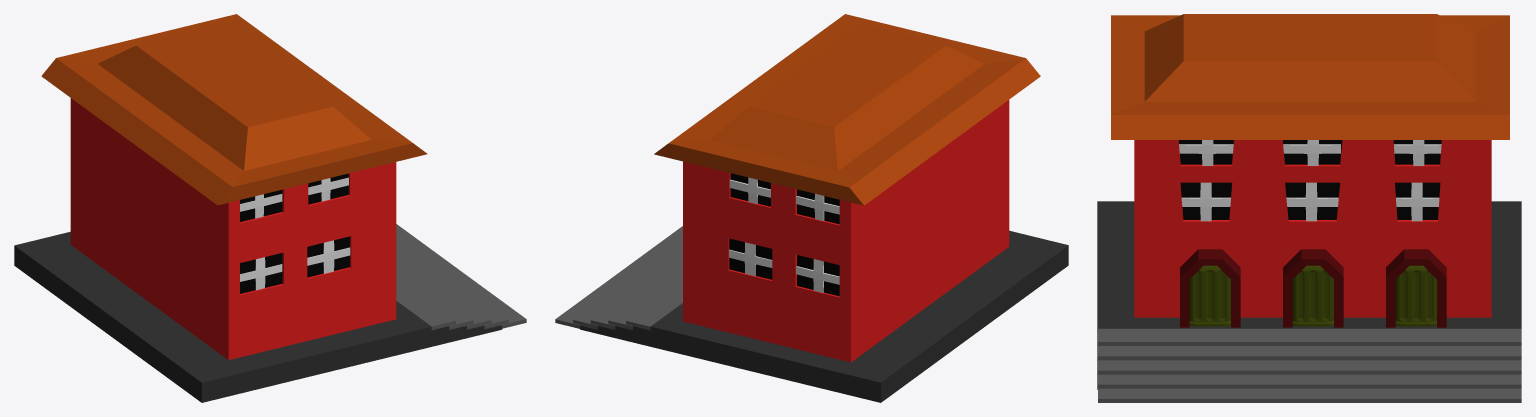
File: Casas.fbx
The picture shows the model from 3 angles, left to right: view 1: azimuth 30°, elevation 25°; view 2: azimuth 150°, elevation 25°; view 3: azimuth 270°, elevation 25°; orthographic projection. The views are drawn at different scales.
Visible parts, largest first — view 1: Cube, Cube.003, Cube.002, Cube.004, Cube.005, Cube.016, Cube.013, Cube.014, Cube.015; view 2: Cube, Cube.003, Cube.002, Cube.004, Cube.005, Cube.020, Cube.017, Cube.019, Cube.018; view 3: Cube.003, Cube, Cube.004, Cube.002, Cube.006, Cube.001, Cube.005, Cube.010, Cube.007, Cube.011, Cube.009, Cube.008 (+1 smaller).
Boxes of the visible parts, x1=… form: Cube: x1=70, y1=98, x2=396, y2=360; Cube.003: x1=41, y1=14, x2=427, y2=205; Cube.002: x1=14, y1=231, x2=502, y2=402; Cube.004: x1=396, y1=224, x2=526, y2=329; Cube.005: x1=240, y1=173, x2=349, y2=293; Cube.016: x1=307, y1=240, x2=350, y2=273; Cube.013: x1=240, y1=257, x2=282, y2=290; Cube.014: x1=240, y1=194, x2=282, y2=218; Cube.015: x1=308, y1=177, x2=348, y2=201; Cube: x1=683, y1=100, x2=1009, y2=362; Cube.003: x1=654, y1=14, x2=1040, y2=205; Cube.002: x1=580, y1=230, x2=1068, y2=402; Cube.004: x1=555, y1=226, x2=682, y2=330; Cube.005: x1=729, y1=173, x2=839, y2=296; Cube.020: x1=796, y1=259, x2=839, y2=292; Cube.017: x1=729, y1=242, x2=772, y2=275; Cube.019: x1=796, y1=193, x2=839, y2=220; Cube.018: x1=729, y1=177, x2=770, y2=203; Cube.003: x1=1111, y1=14, x2=1509, y2=139; Cube: x1=1134, y1=140, x2=1491, y2=317; Cube.004: x1=1098, y1=328, x2=1521, y2=402; Cube.002: x1=1097, y1=201, x2=1521, y2=389; Cube.006: x1=1189, y1=265, x2=1436, y2=326; Cube.001: x1=1180, y1=249, x2=1446, y2=327; Cube.005: x1=1178, y1=140, x2=1441, y2=219; Cube.010: x1=1286, y1=182, x2=1338, y2=221; Cube.007: x1=1181, y1=182, x2=1230, y2=221; Cube.011: x1=1396, y1=182, x2=1439, y2=221; Cube.009: x1=1283, y1=140, x2=1340, y2=165; Cube.008: x1=1179, y1=140, x2=1233, y2=165.
Size of the model in its own units: 129 by 86.12 by 129.
